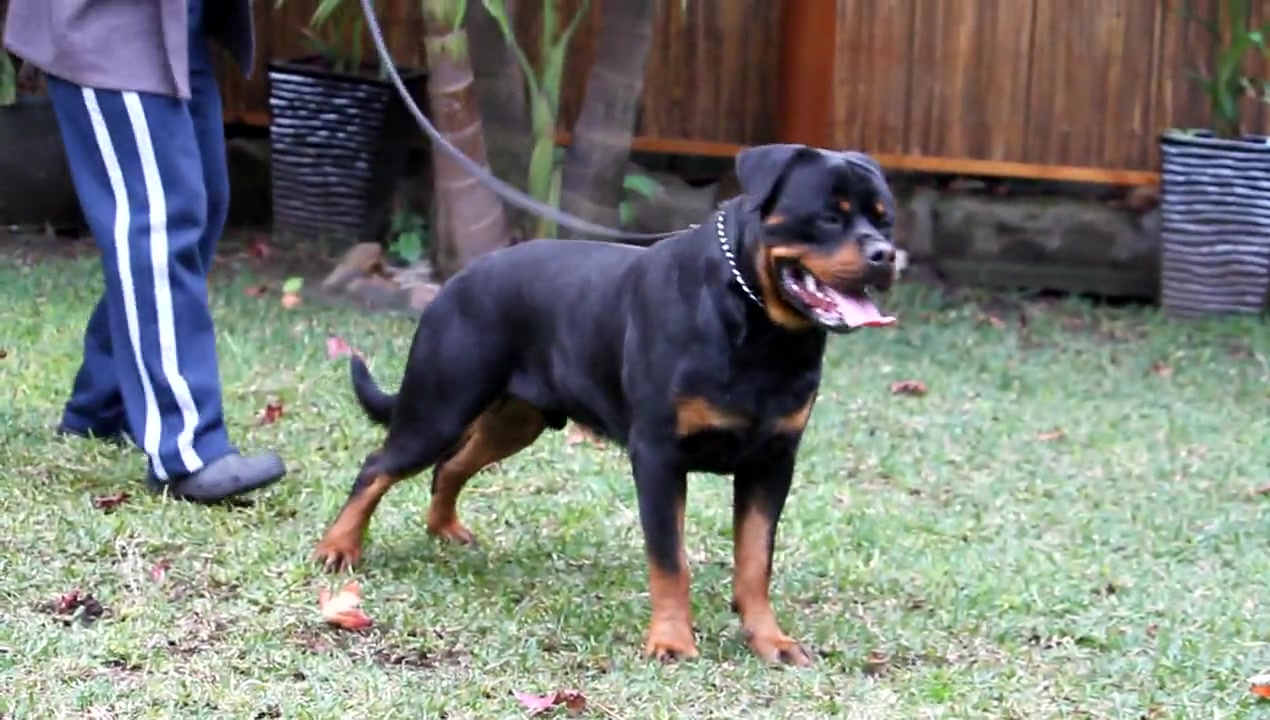dog: (309, 142, 907, 667)
